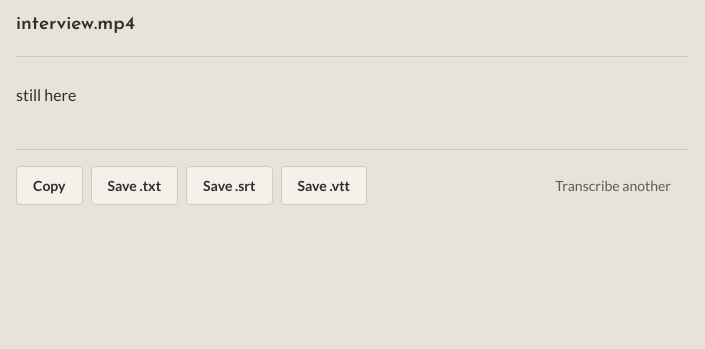
Test: Done › dismissing the inline save error clears it without touching the transcript
Click the button "Save .srt": (229, 185) [186,166,272,204]
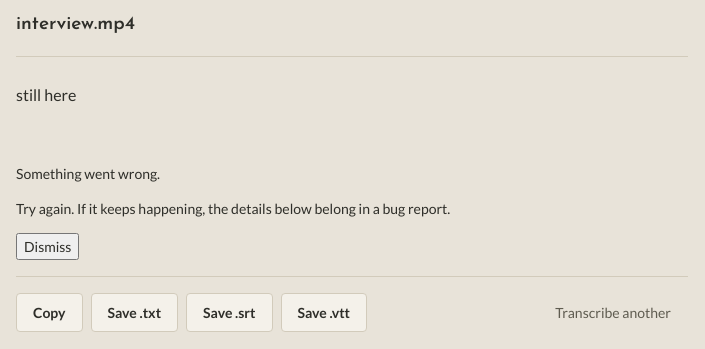
expect the message is shown: met, box [16,164,450,260]
Click the button "Dismiss": (48, 246) [16,232,79,260]
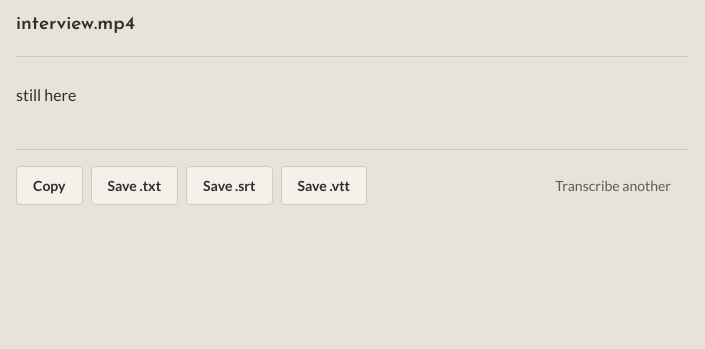
expect the element with test id "transcript" reads "still here": met, box [16,84,76,104]
expect the message is gone: met
